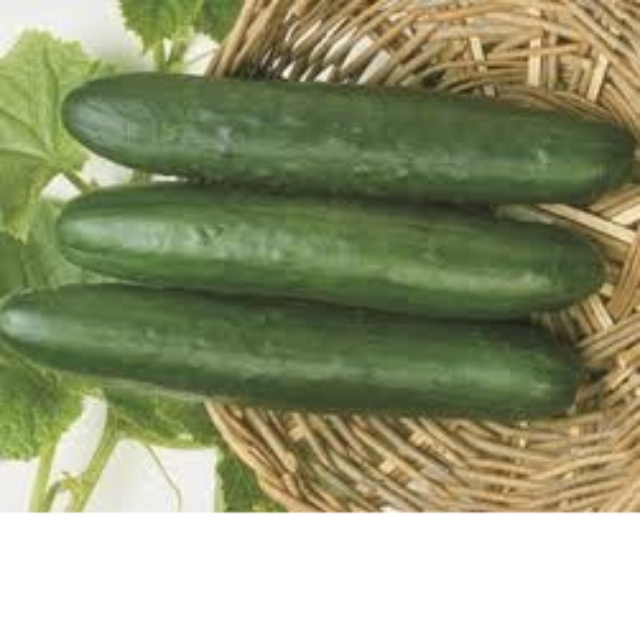dua_leo: (50, 178, 629, 322), (1, 281, 583, 420), (53, 68, 638, 206)
